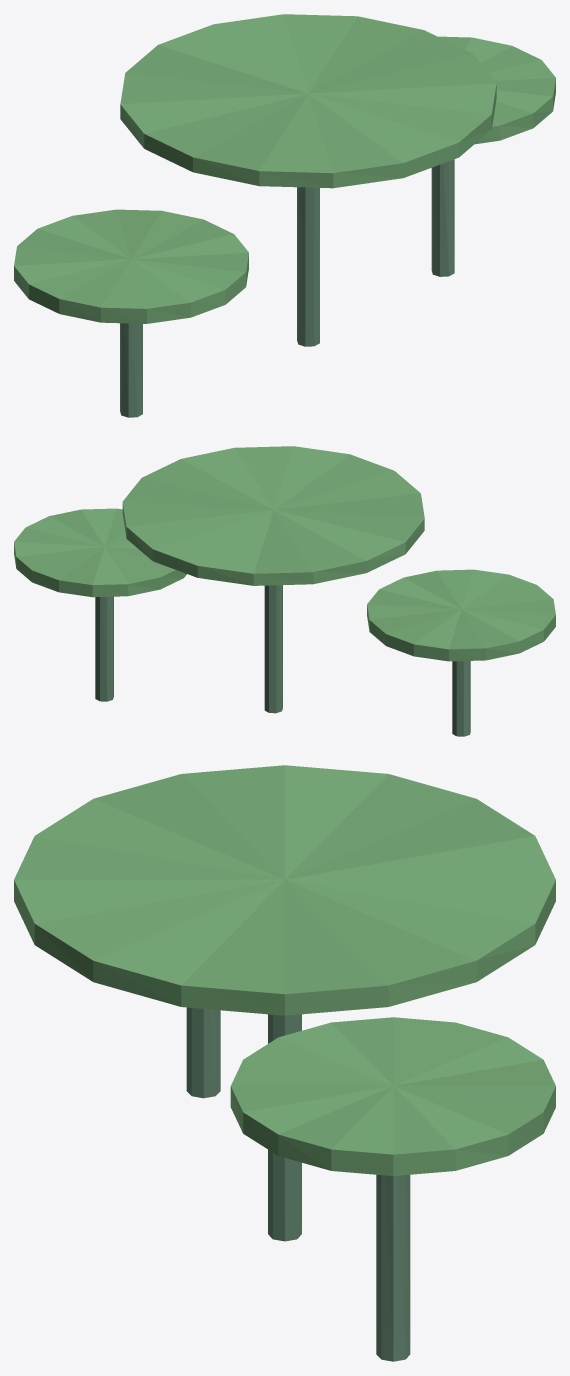
Rendered from lily.glb.
The picture shows the model from 3 angles, top to bottom: view 1: azimuth 30°, elevation 25°; view 2: azimuth 150°, elevation 25°; view 3: azimuth 270°, elevation 25°; orthographic projection. The views are drawn at different scales.
Parts seen in each view (by area): view 1: leaf_0, leaf_1, leaf_2, stem_0, stem_2, stem_1; view 2: leaf_0, leaf_1, leaf_2, stem_0, stem_2, stem_1; view 3: leaf_0, leaf_2, stem_2, stem_0, stem_1.
Part boxes in pixels (left/top/right/bottom): leaf_0: left=120, top=14, right=496, bottom=188; leaf_1: left=14, top=209, right=248, bottom=323; leaf_2: left=438, top=36, right=555, bottom=144; stem_0: left=297, top=187, right=319, bottom=346; stem_2: left=431, top=159, right=454, bottom=276; stem_1: left=120, top=323, right=142, bottom=417; leaf_0: left=122, top=446, right=424, bottom=585; leaf_1: left=367, top=569, right=555, bottom=661; leaf_2: left=14, top=508, right=186, bottom=597; stem_0: left=264, top=585, right=282, bottom=713; stem_2: left=95, top=596, right=113, bottom=701; stem_1: left=452, top=661, right=470, bottom=736; leaf_0: left=14, top=765, right=555, bottom=1015; leaf_2: left=230, top=1017, right=555, bottom=1175; stem_2: left=376, top=1174, right=410, bottom=1361; stem_0: left=268, top=1014, right=301, bottom=1241; stem_1: left=186, top=1007, right=220, bottom=1098.
Size of the model in its own units: 1.41 by 0.5775 by 0.8.
